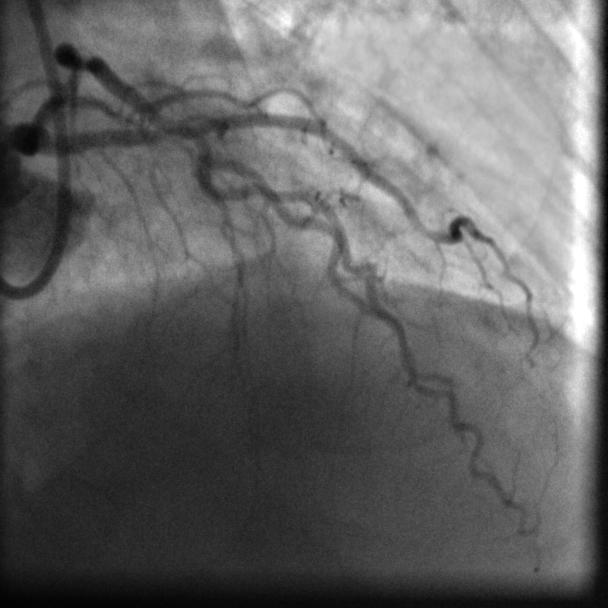Stenosis: (64, 37, 98, 75)
